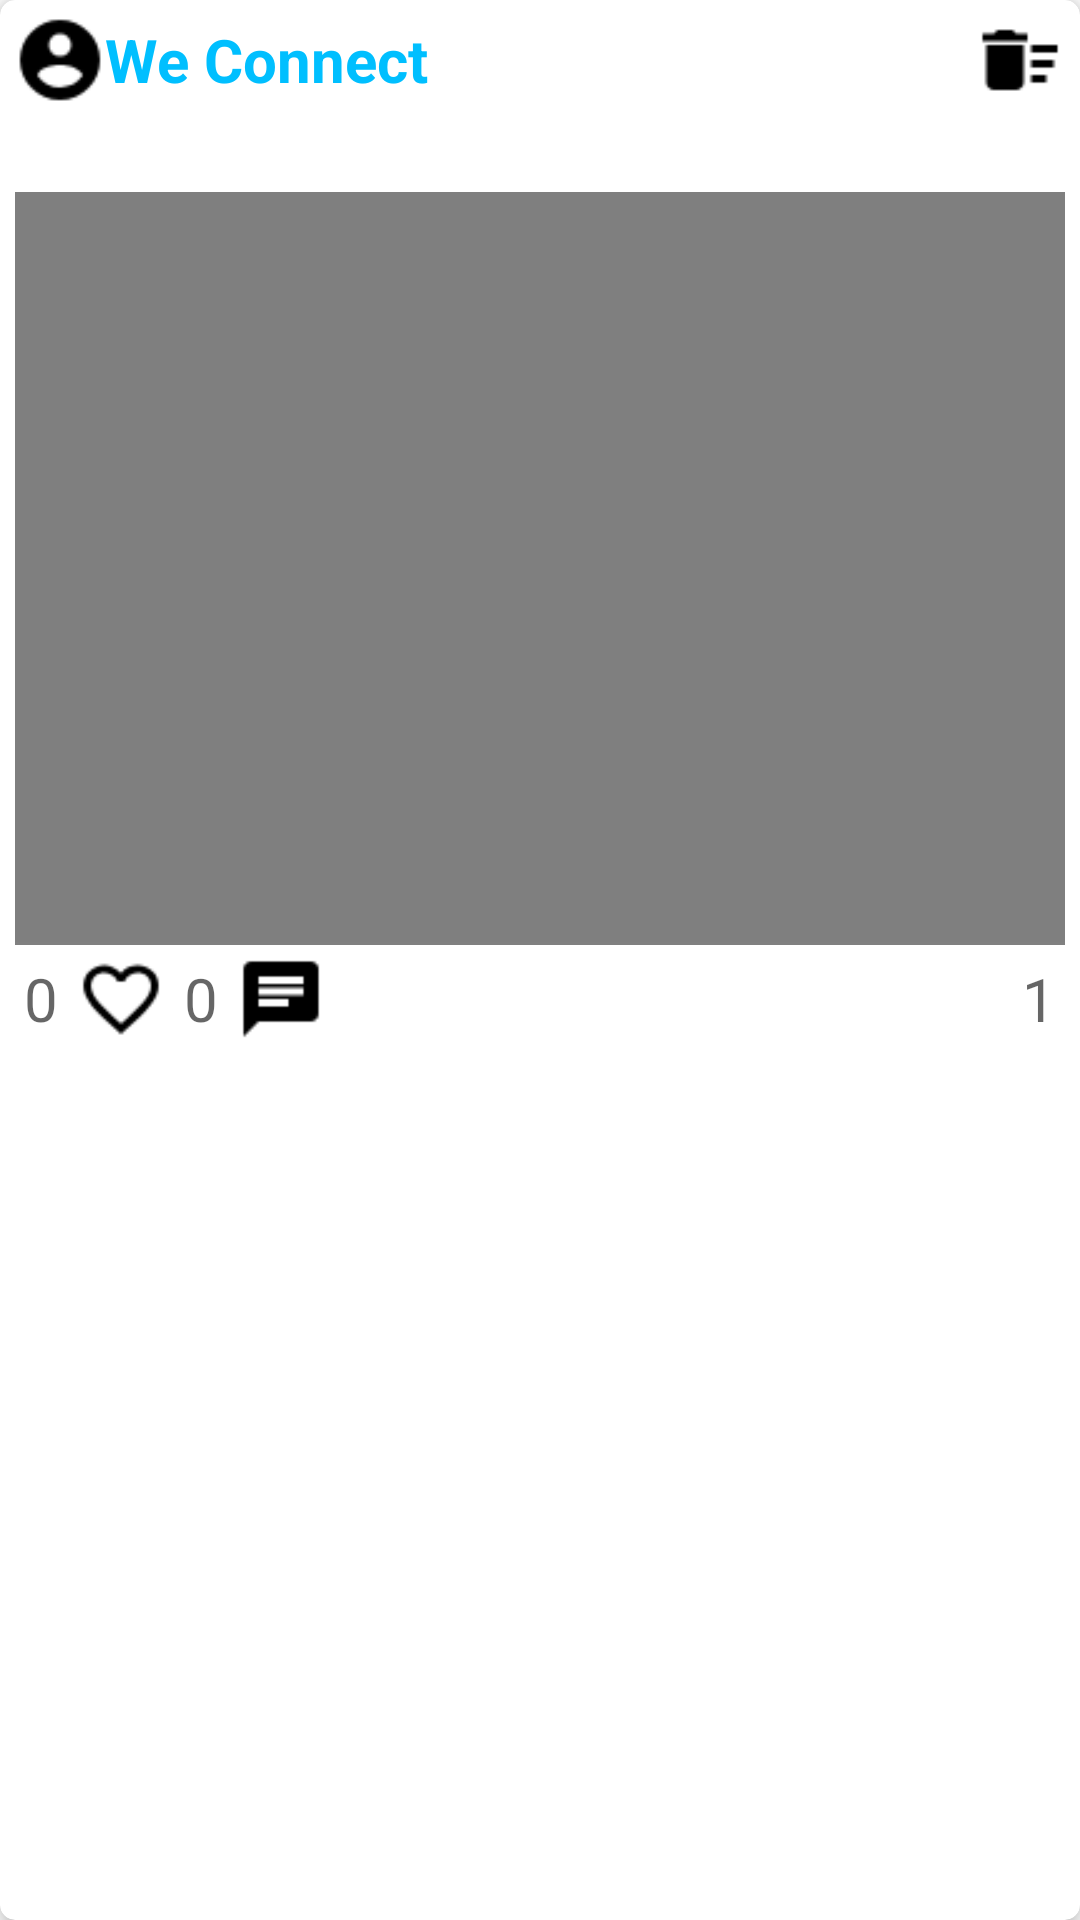

Locate icon controls on the screen. Image size 1080x1920, boxes as (x1, y1, x2, y2).
account circle: (19, 19, 101, 101)
chat: (242, 960, 320, 1037)
delete sweep: (981, 29, 1059, 91)
favorite border: (82, 963, 160, 1035)
